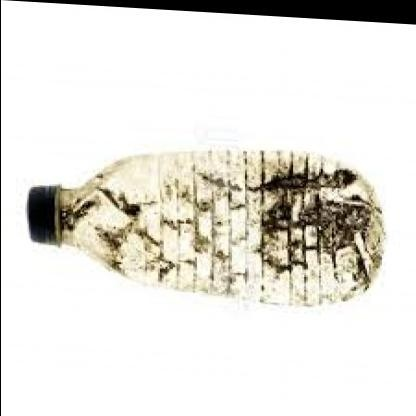trash: (28, 150, 383, 304)
